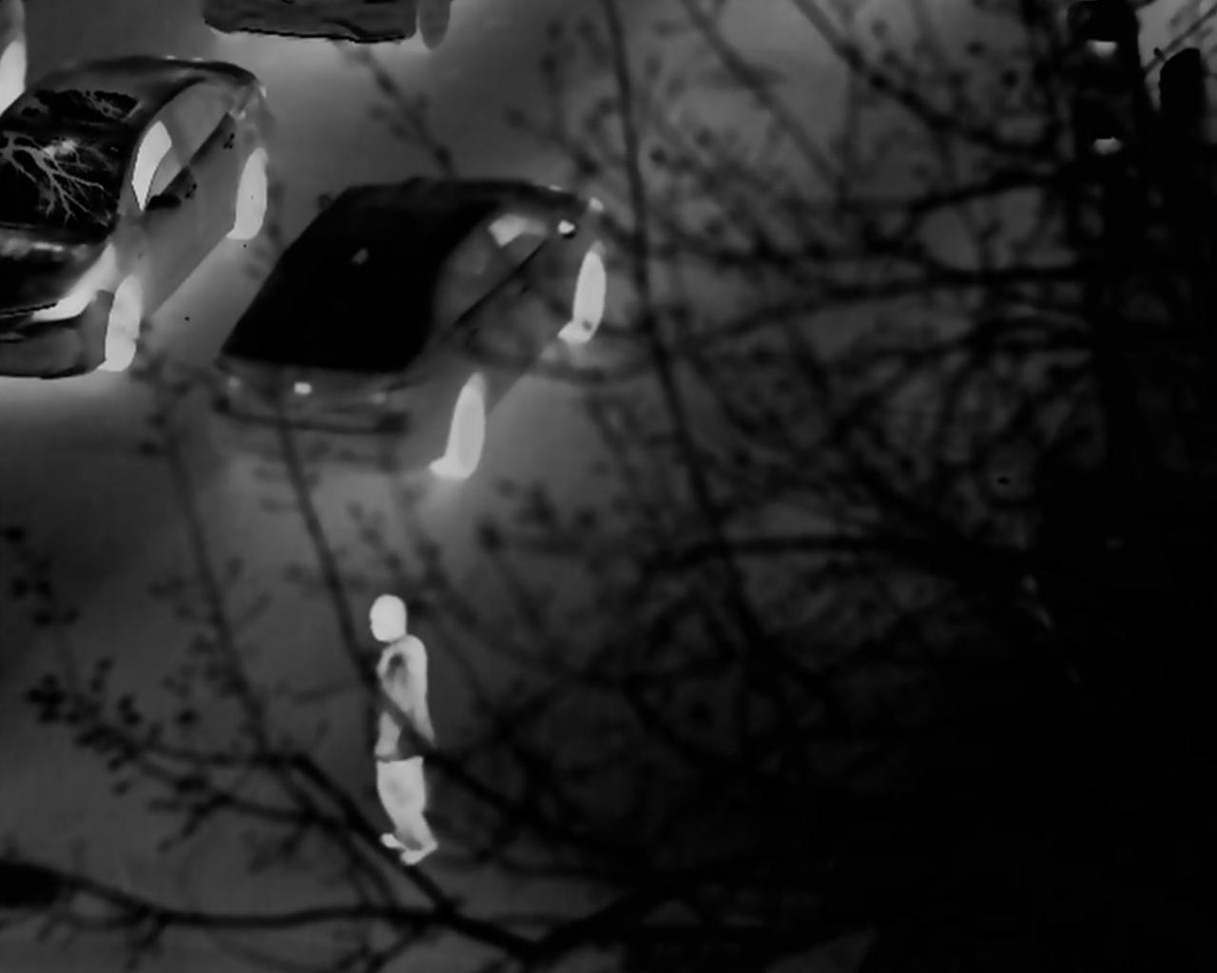person: (368, 583, 445, 876)
